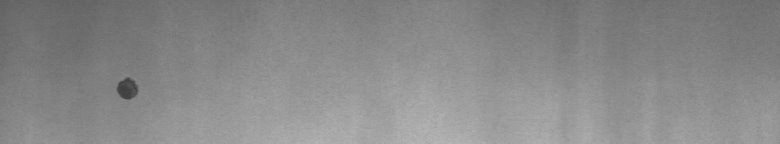fi: (112, 72, 144, 108)
